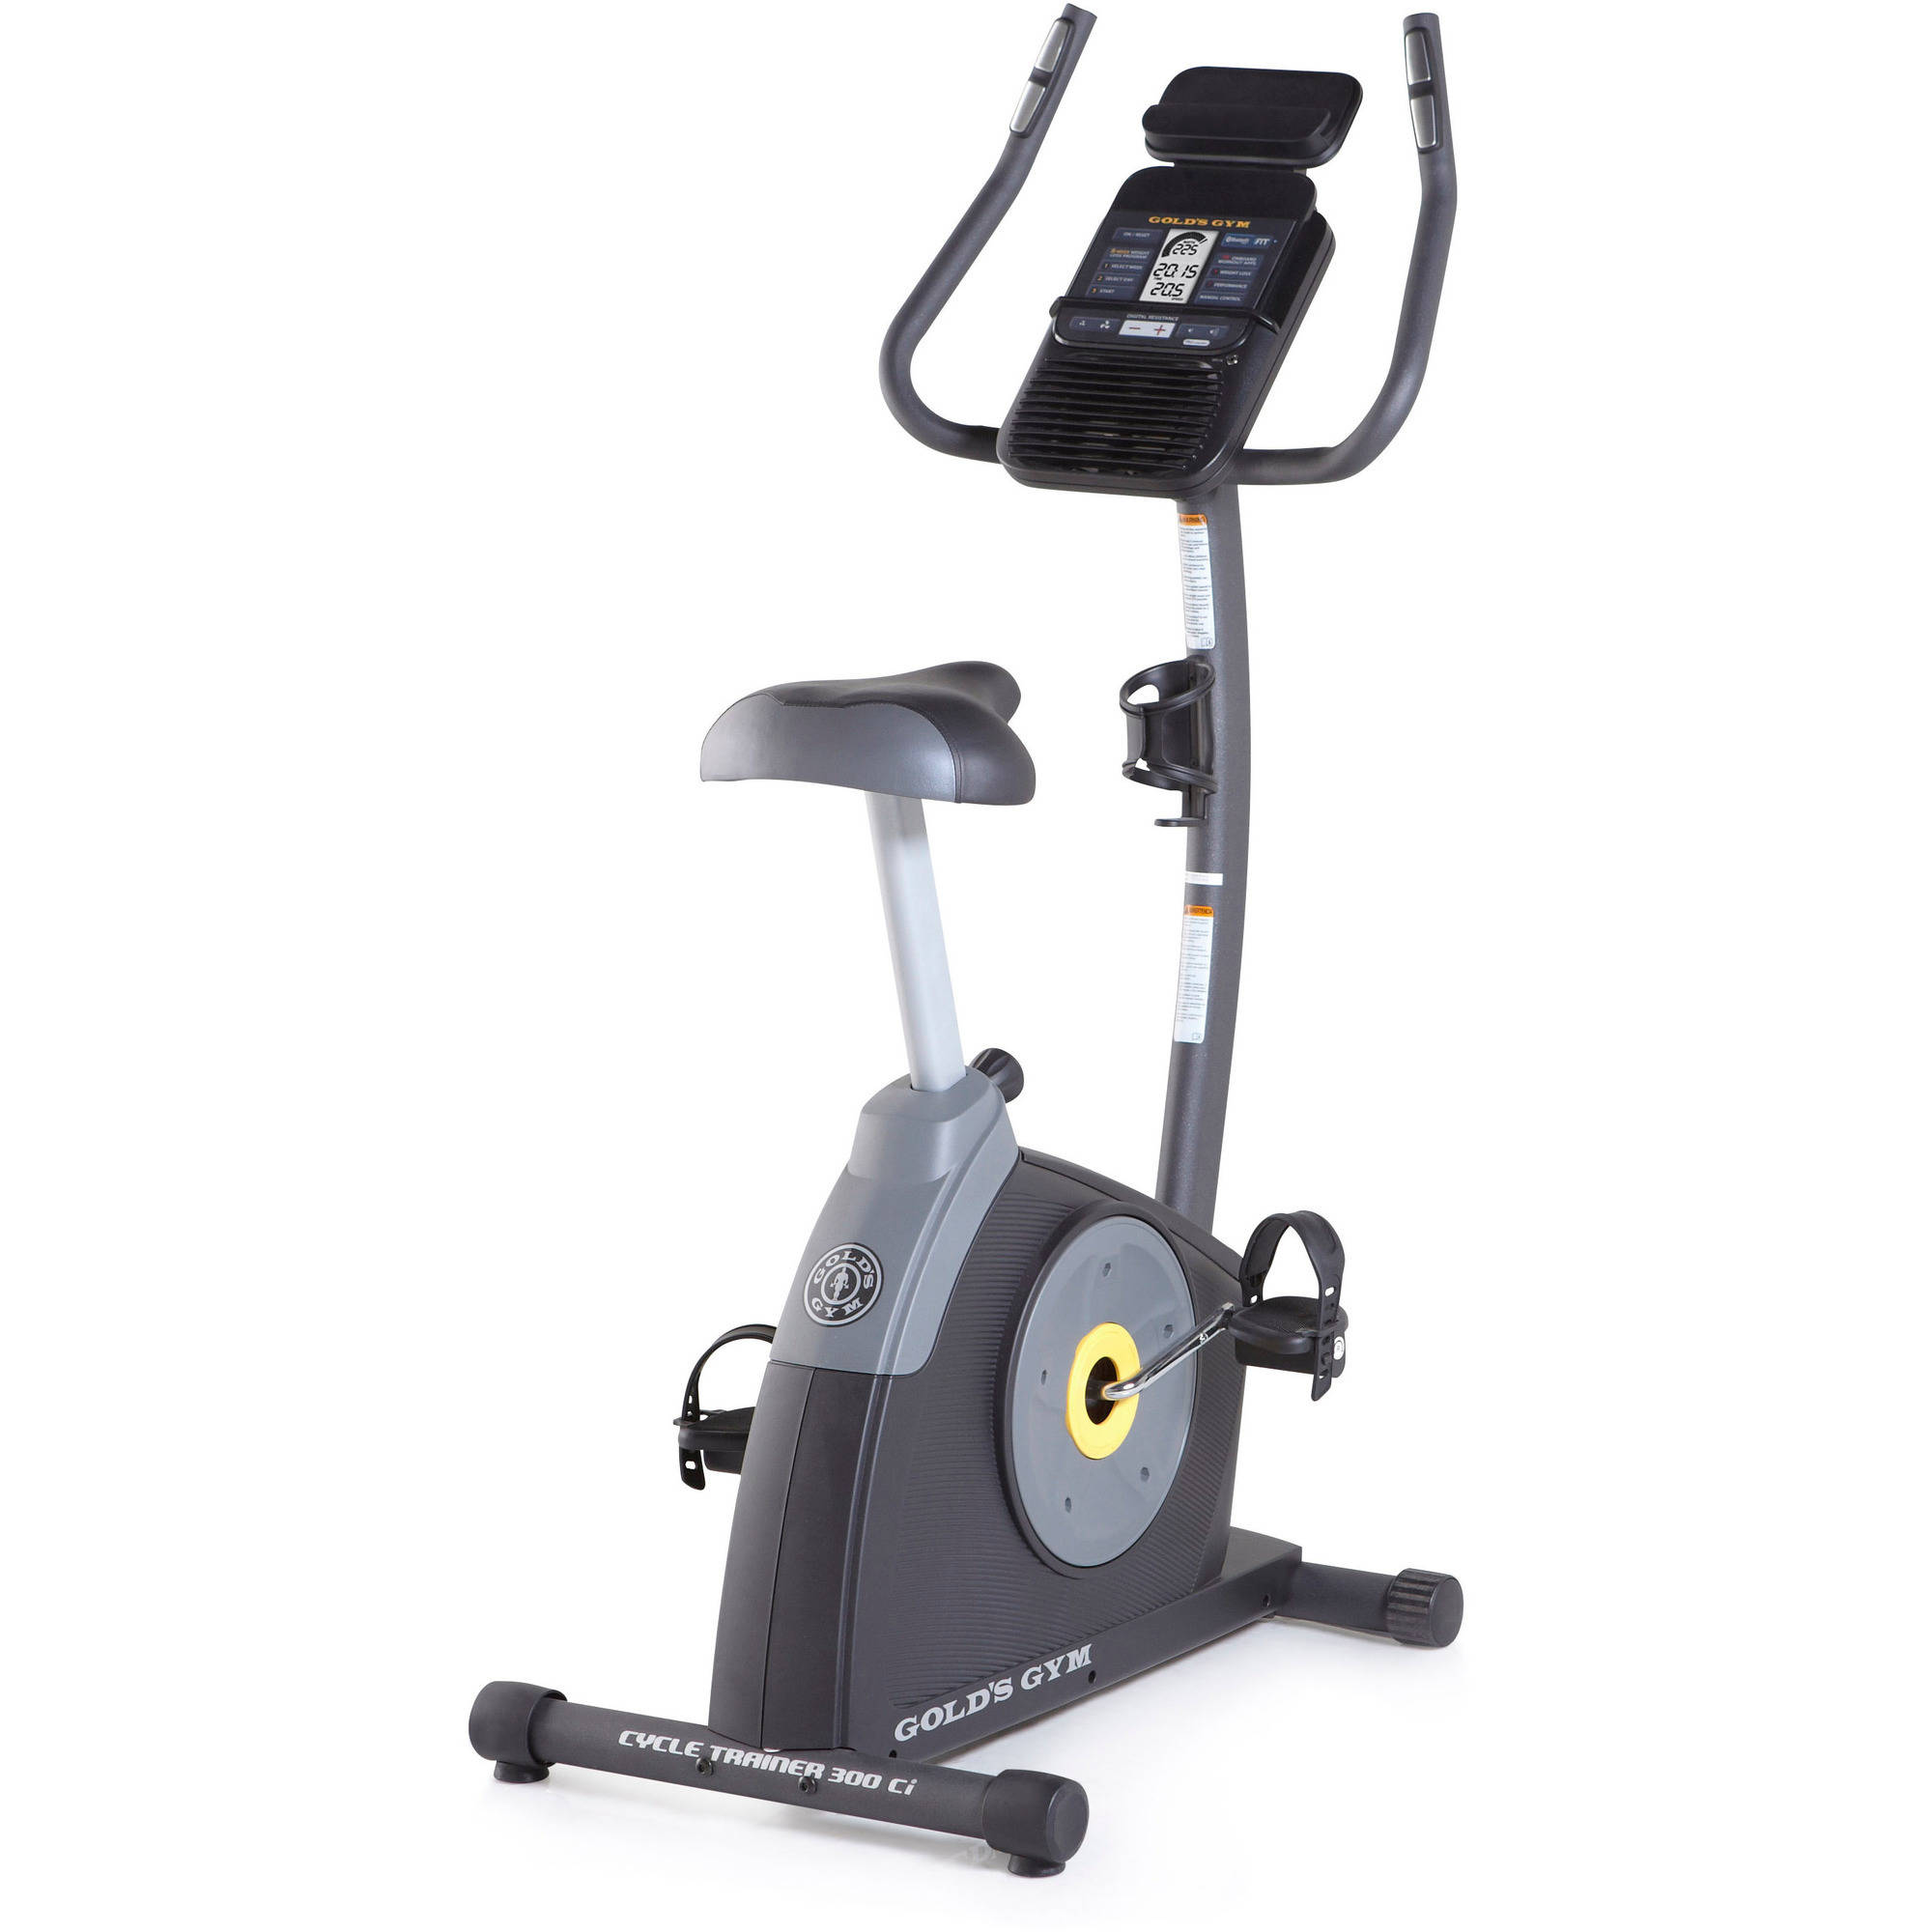gym_bike: (481, 39, 1644, 1844)
